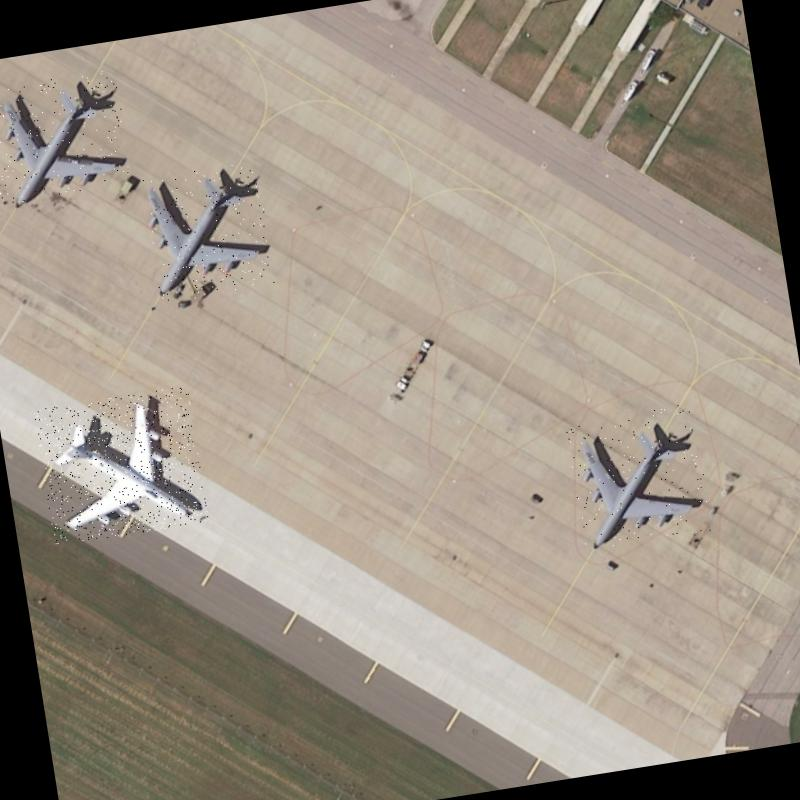A11: (33, 385, 209, 546)
A14: (562, 402, 712, 550), (141, 160, 276, 303), (0, 68, 133, 205)
